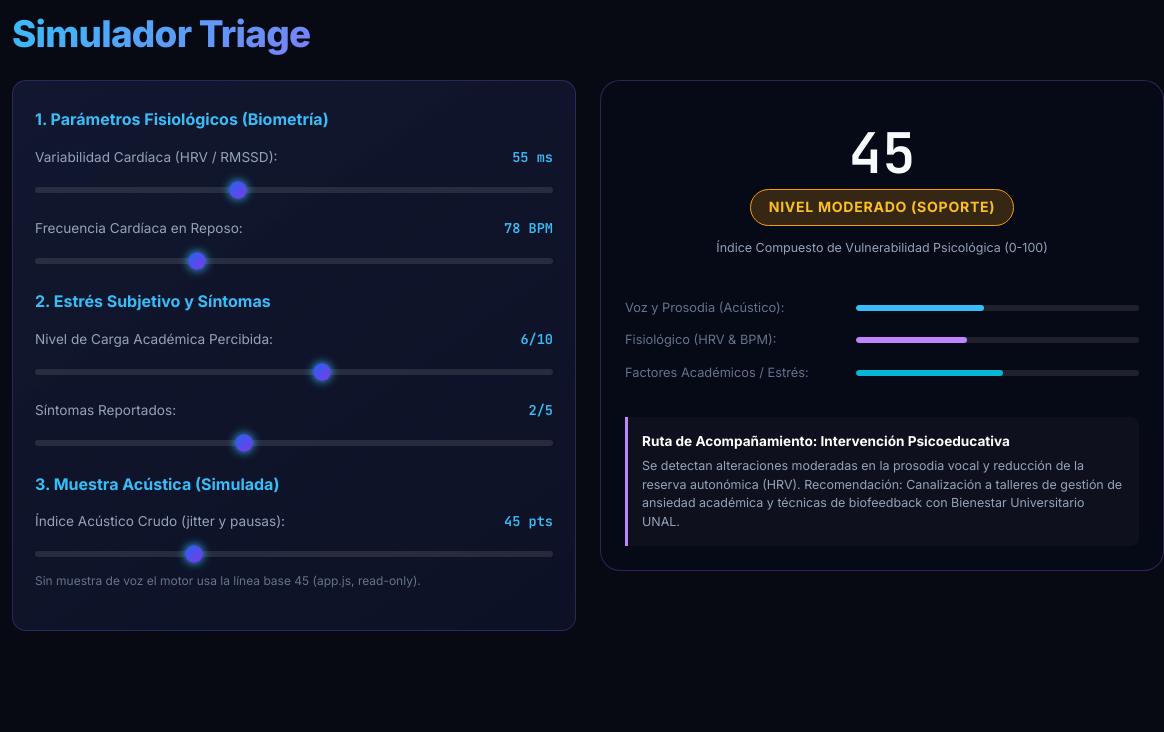
TriageSimulator (profile-triage-engine S6) › shows the preventive stratum for very low inputs
This screenshot has width=1164, height=732.
Set the slider labelled "Variabilidad Cardíaca (HRV / RMSSD):" to "110" at (545, 190), box [35,186,553,192]
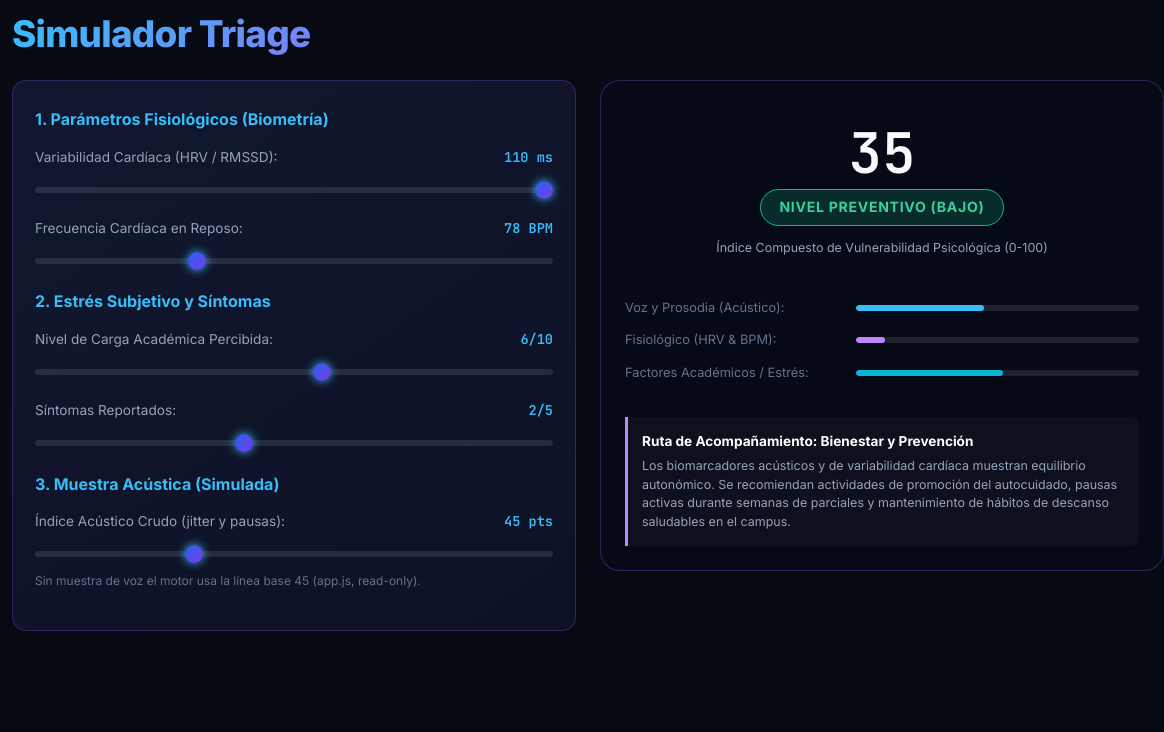
Set the slider labelled "Frecuencia Cardíaca en Reposo:" to "55" at (43, 261), box [35,258,553,264]
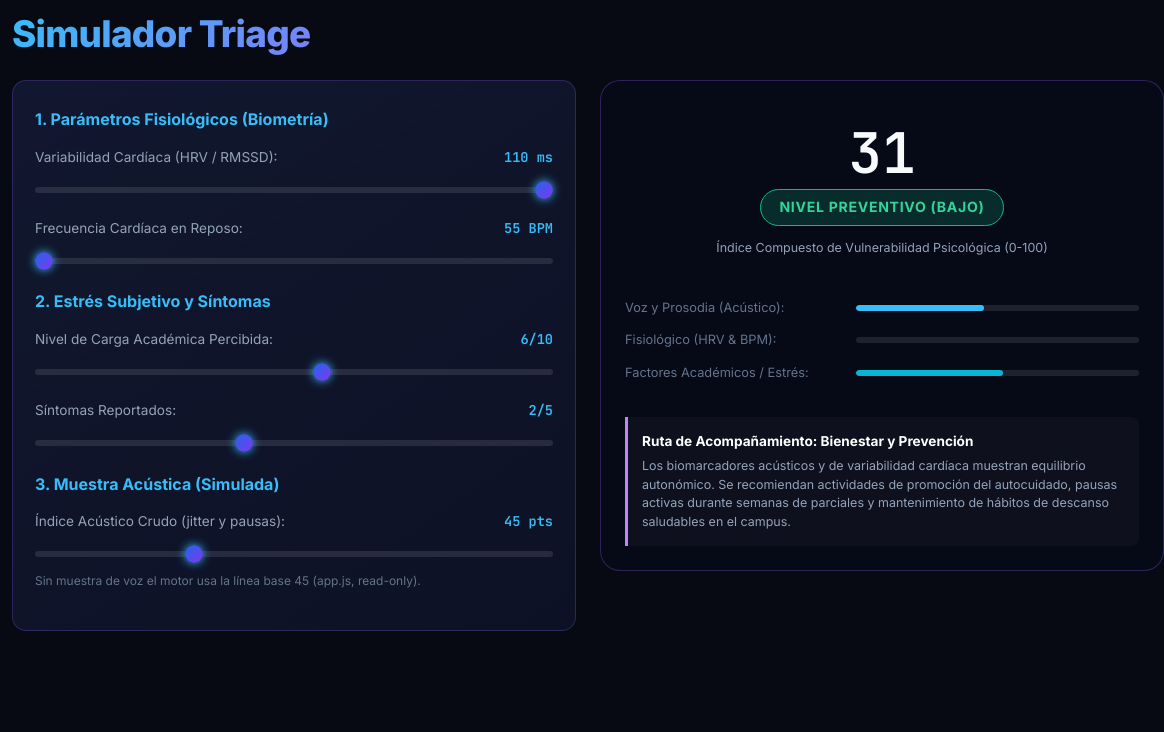
Set the slider labelled "Nivel de Carga Académica Percibida:" to "1" at (43, 372), box [35,369,553,375]
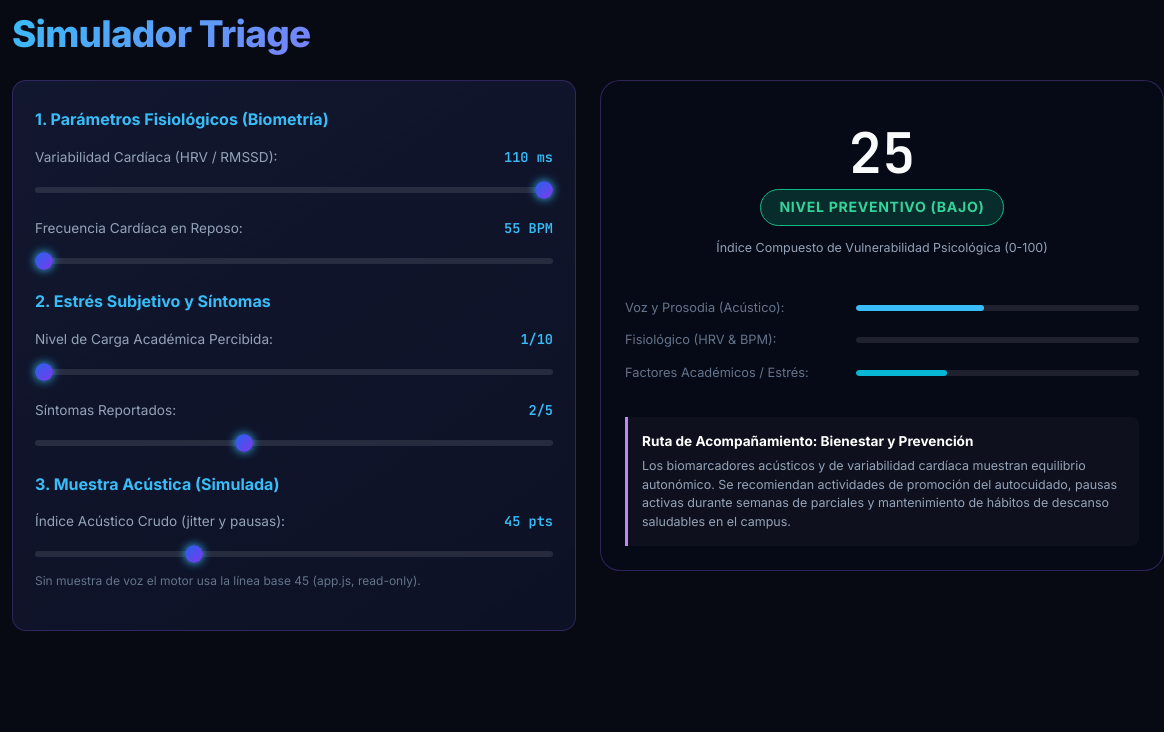
Set the slider labelled "Síntomas Reportados:" to "0" at (43, 443), box [35,440,553,446]
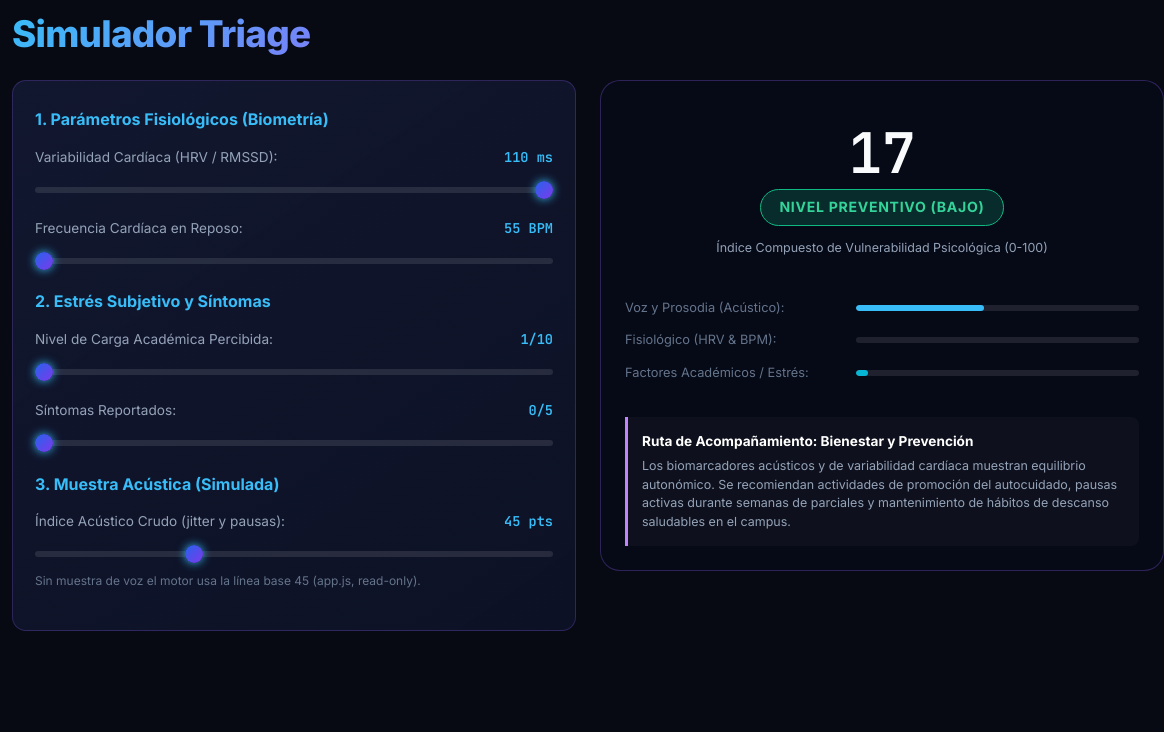
Set the slider labelled "Índice Acústico Crudo (jitter y pausas):" to "10" at (76, 554), box [35,551,553,557]
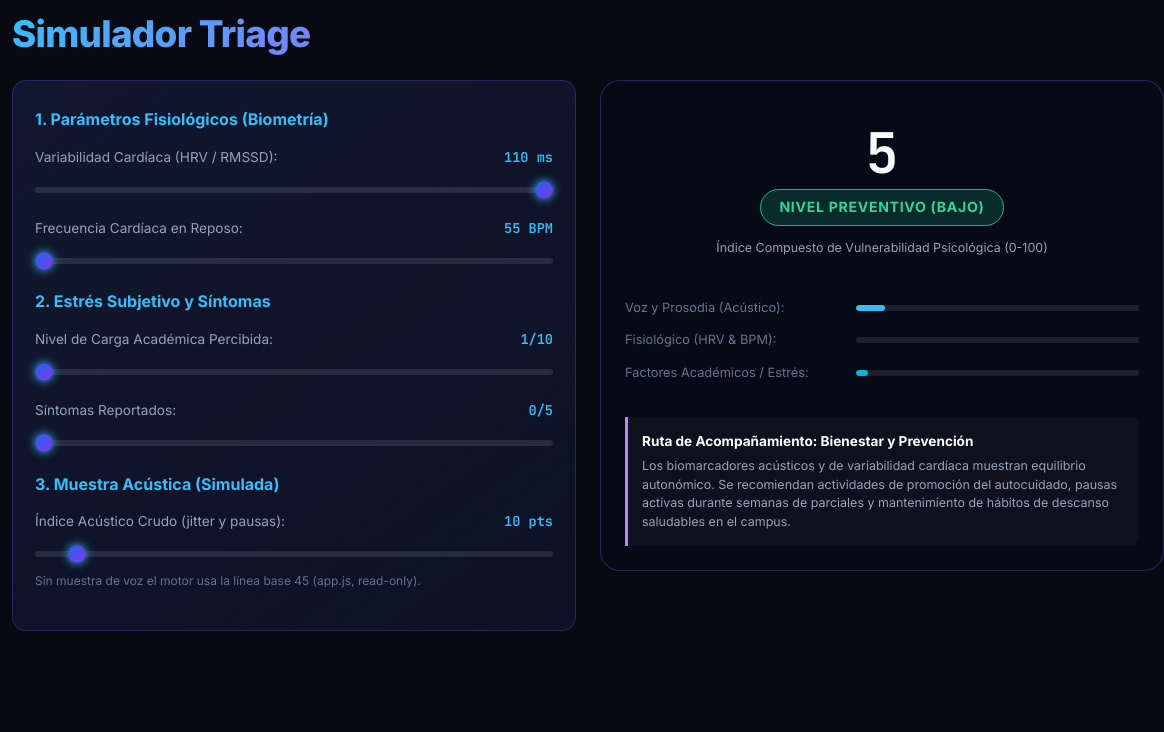
Expected: the text "Nivel Preventivo (Bajo)" is shown, [760,189,1004,226]
Expected: the heading "Ruta de Acompañamiento: Bienestar y Prevención" is shown, [642,433,973,449]
Expected: the text with test id "triage-score" reads "5", [865,116,899,190]
